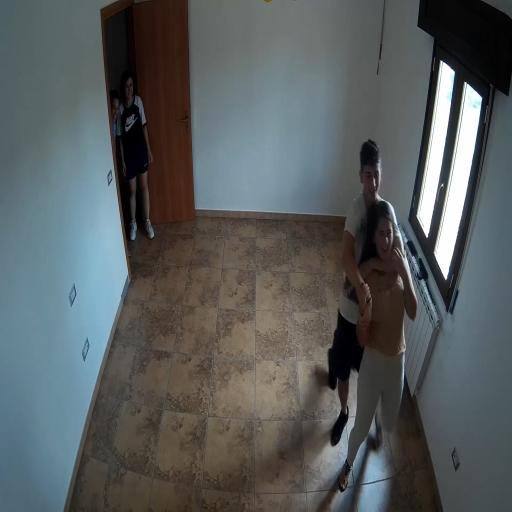violencia: (322, 134, 421, 498)
